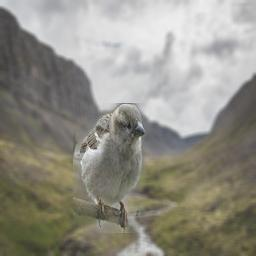Sparrow: (73, 103, 146, 233)
